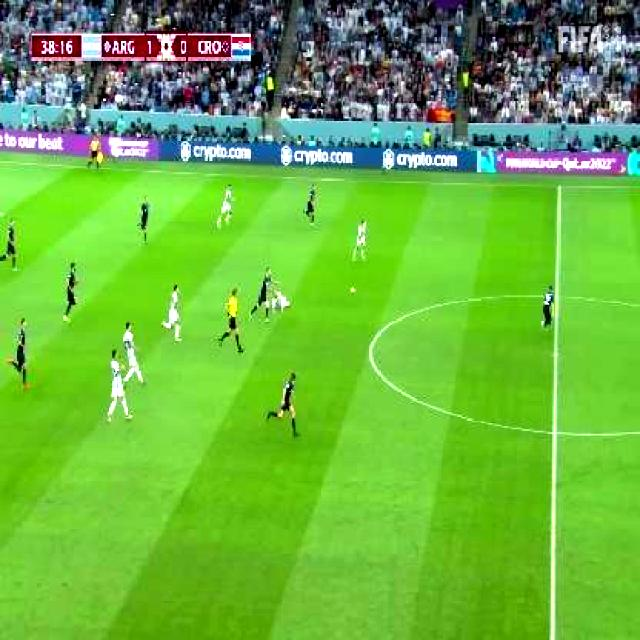bigarea_top_inner: (0, 203, 9, 220)
halfcircle_bottom: (542, 417, 566, 446)
halfcircle_top: (548, 285, 568, 309)
midline_top_intersection: (550, 175, 568, 197)
